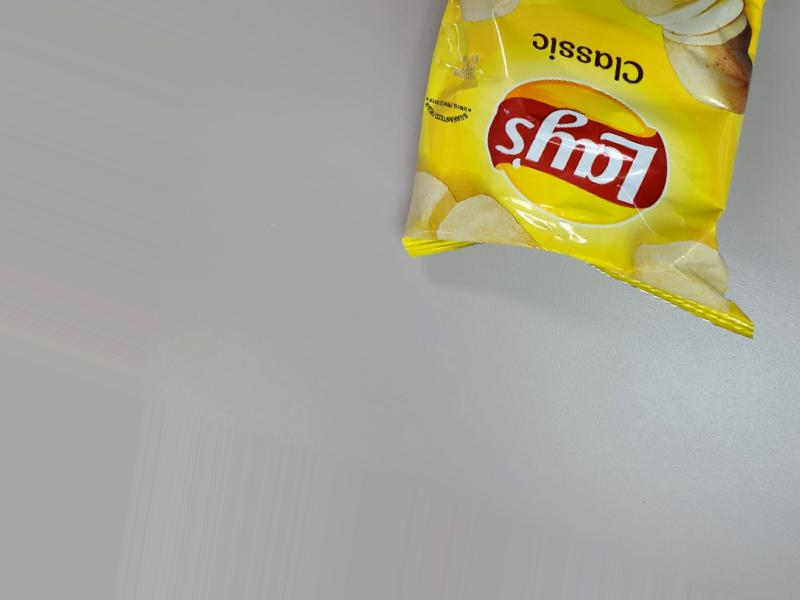lays: (393, 31, 737, 348)
